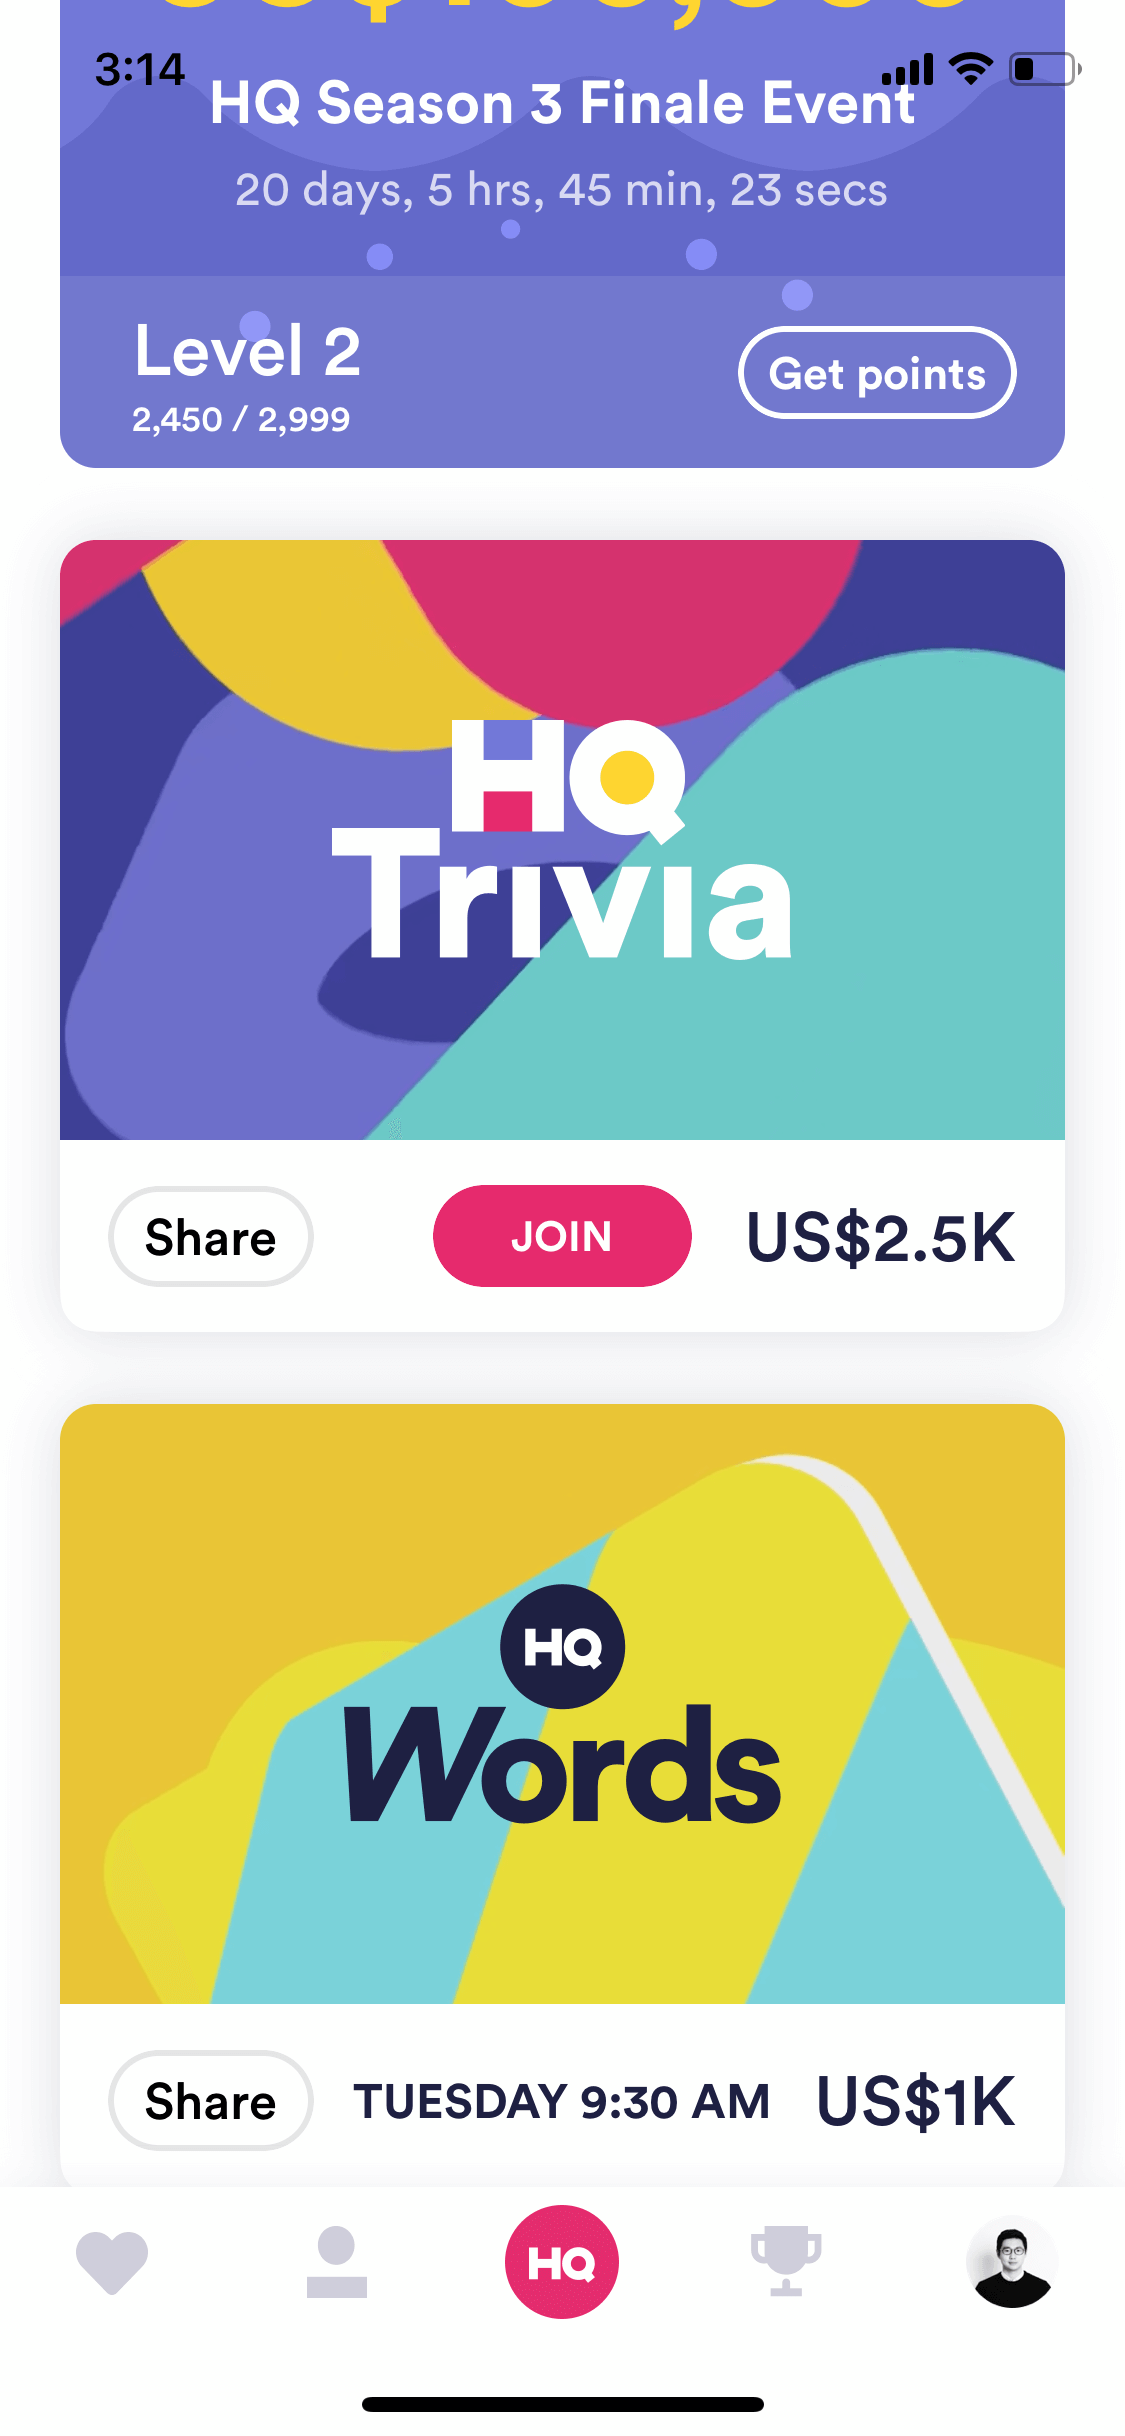Buttons: (421, 1178, 705, 1300), (726, 312, 1029, 427), (99, 1174, 322, 1294), (101, 2038, 317, 2152)
